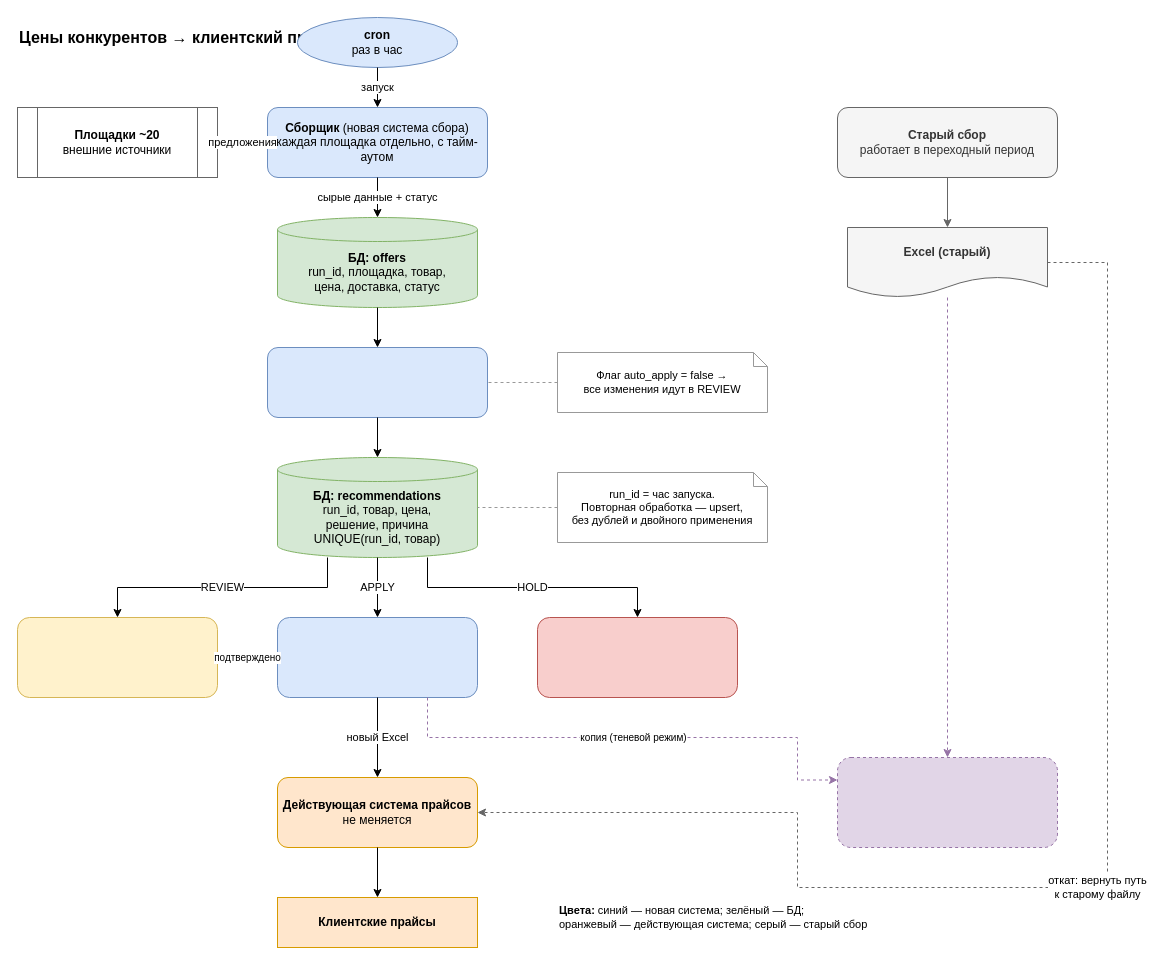
The diagram is 1164 pixels wide and 965 high, and some of its shapes have lost their labels. Each missing label, with the box of its shape:
HOLD цена не меняется; оповещение, если HOLD N часов подряд: (536, 616, 738, 698)
REVIEW: менеджер ручная проверка; до проверки — старая цена: (16, 616, 218, 698)
Расчёт: recommend_price проверка пригодности данных → APPLY / REVIEW / HOLD: (266, 346, 488, 418)
Теневой режим сравнение нового и старого Excel: разница цен, доля REVIEW / HOLD: (836, 756, 1058, 848)
Экспорт Excel формат старой системы; временный файл → rename: (276, 616, 478, 698)
